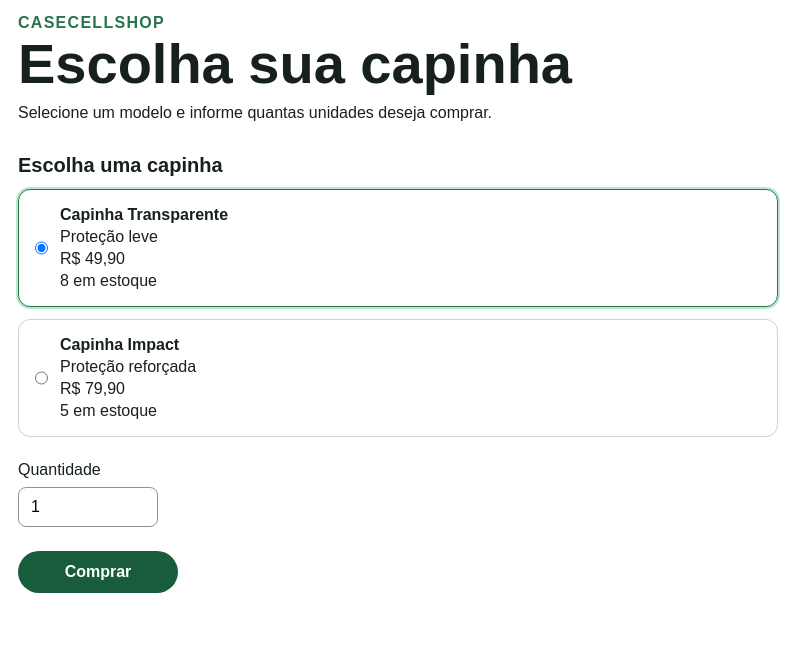
Test case: CheckoutPage › distinguishes an idempotent replay and keeps submission locked
The image size is (797, 670).
Click the radio button labelled "Capinha Impact Proteção reforçada R$ 79,90 5 em estoque" at (42, 378), box [35,336,48,420]
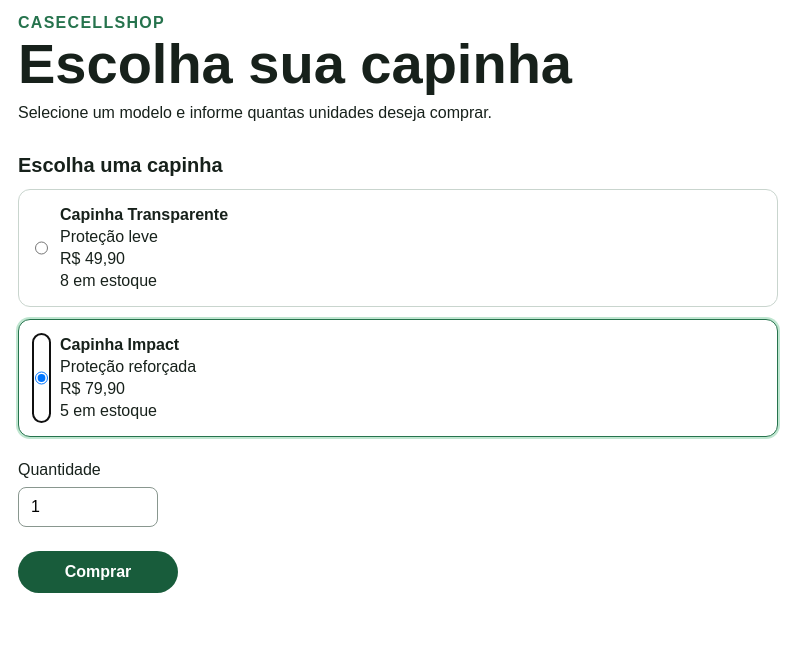
Replace the text in the number field labelled "Quantidade" with "2" at (88, 507), box [18,487,158,527]
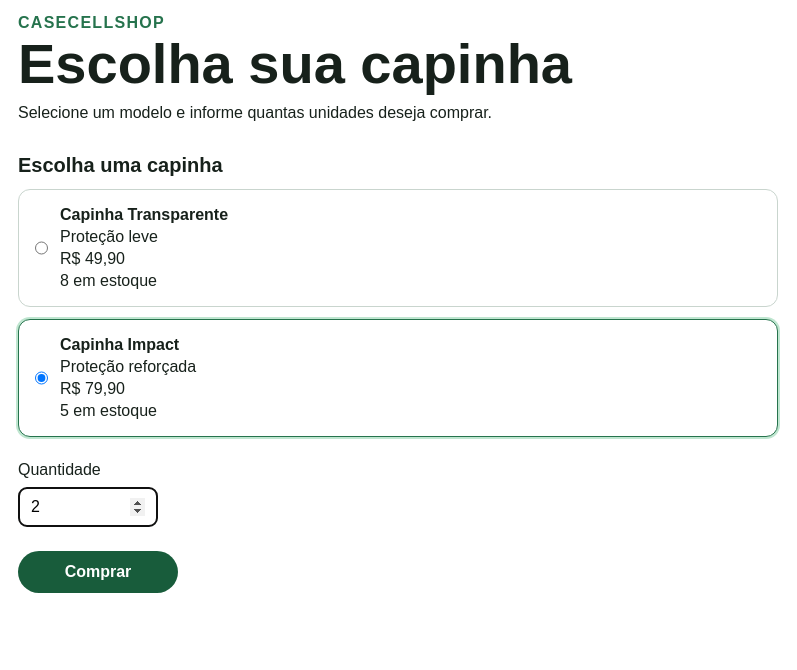
Click the button "Comprar" at (98, 572), box [18,551,178,593]
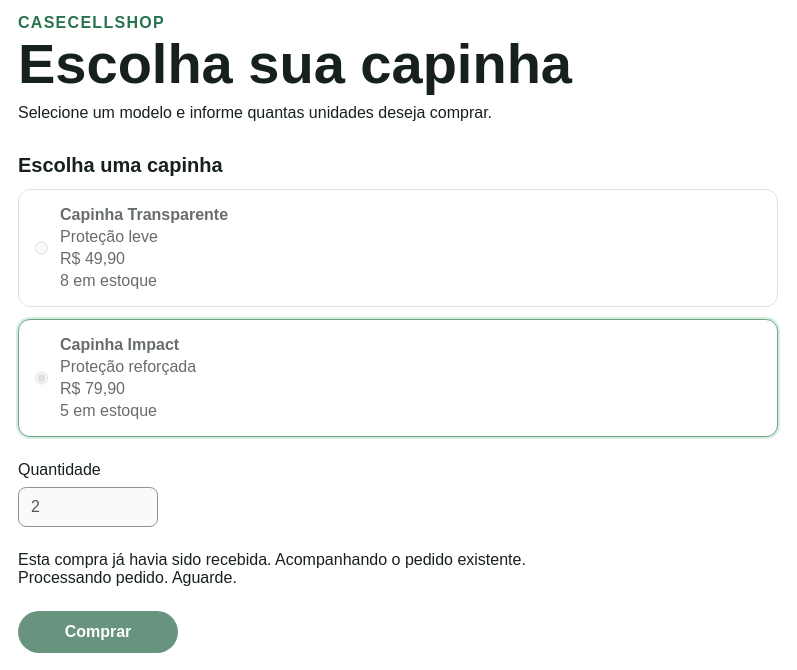
Expected: the text "compra já havia sido recebida" is shown, [18,551,526,568]
Expected: the button "Comprar" is disabled, [18,611,178,653]
